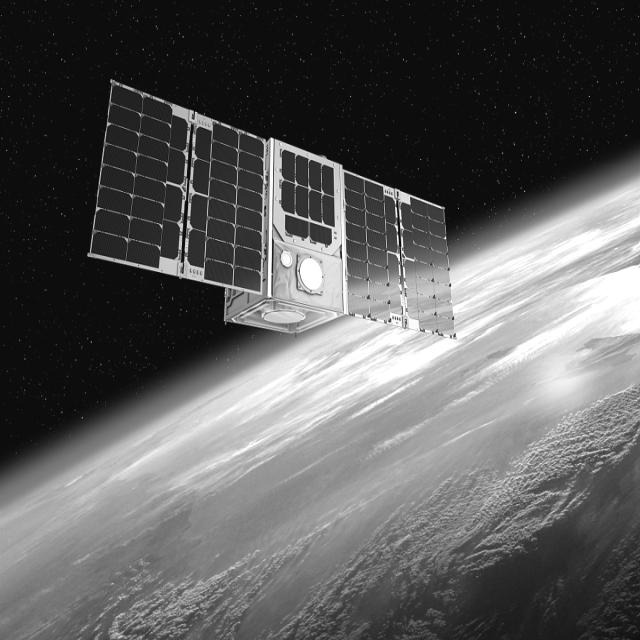satellite: (79, 68, 463, 359)
